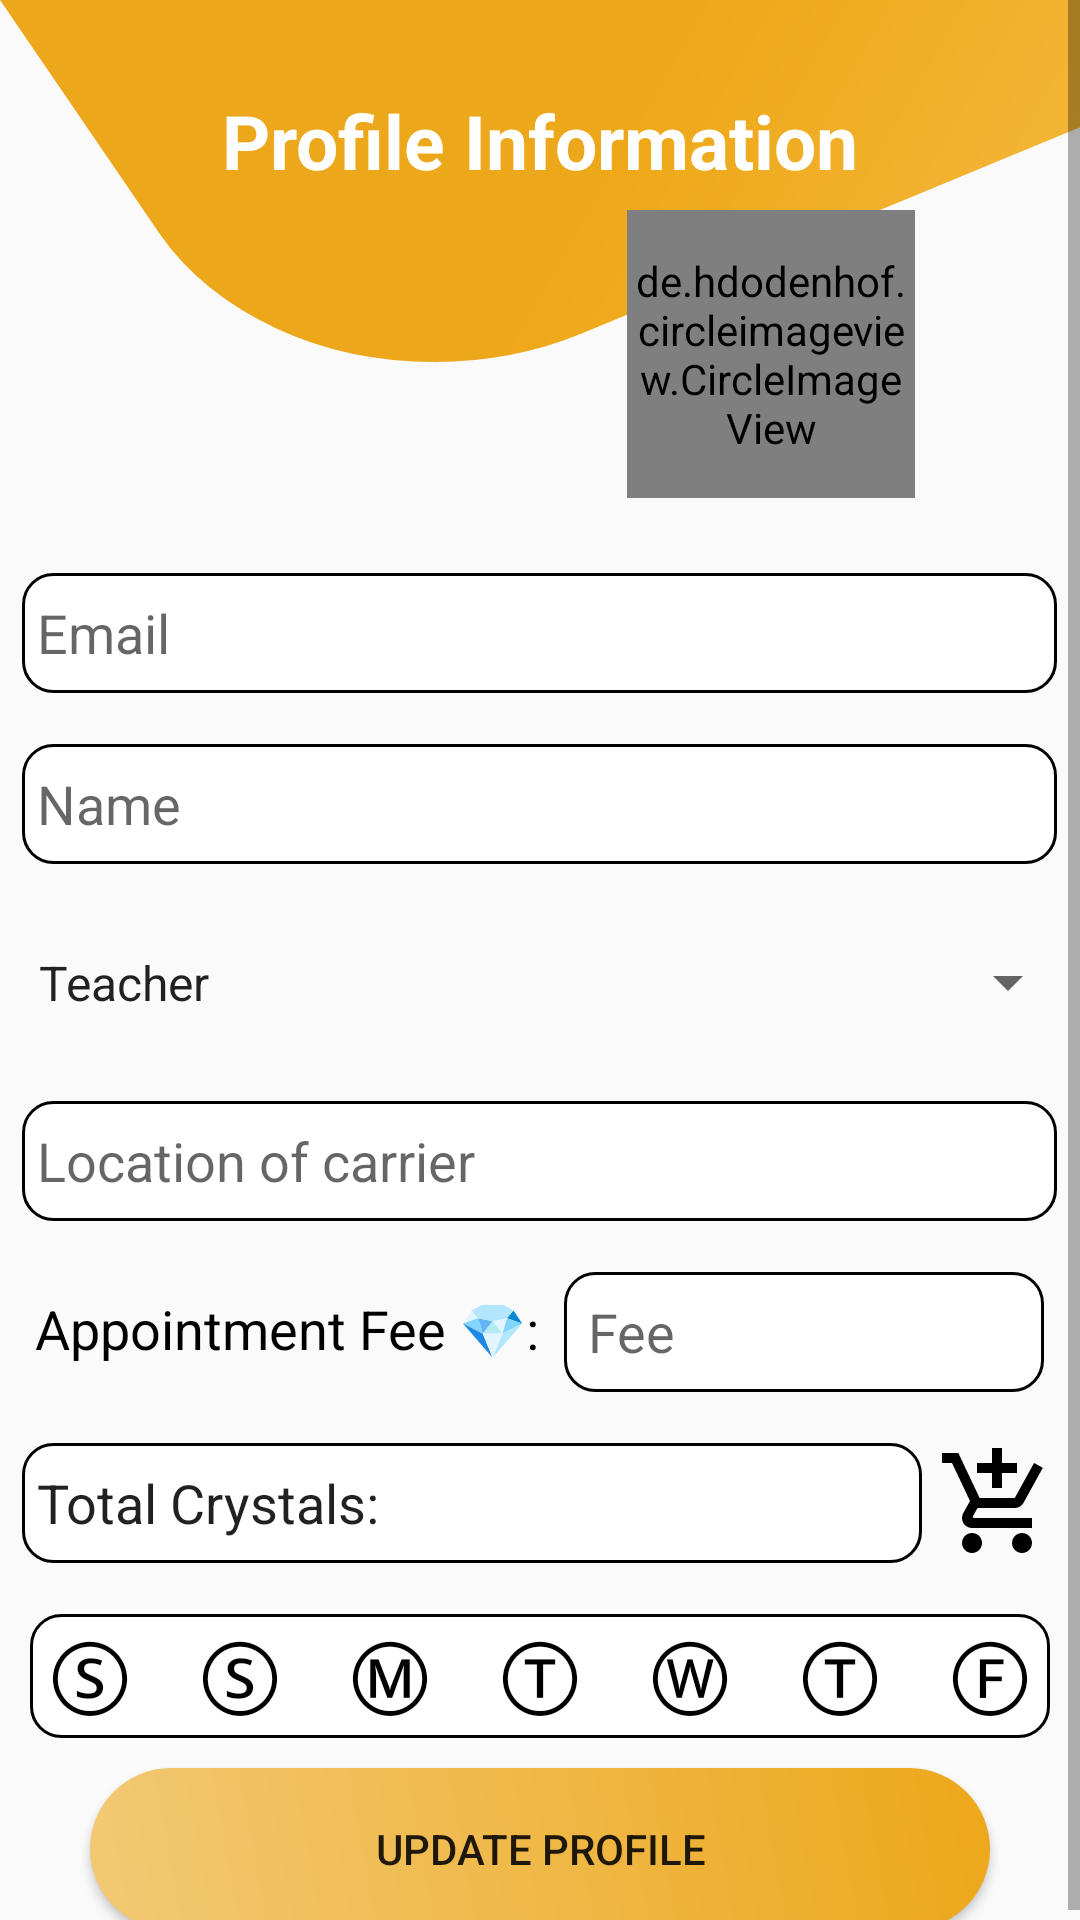

Icons on this 1080w x 1920h Android screen, each with its box as [x1,y1,x2,y2]:
add shopping cart: [942,1448,1043,1553]
